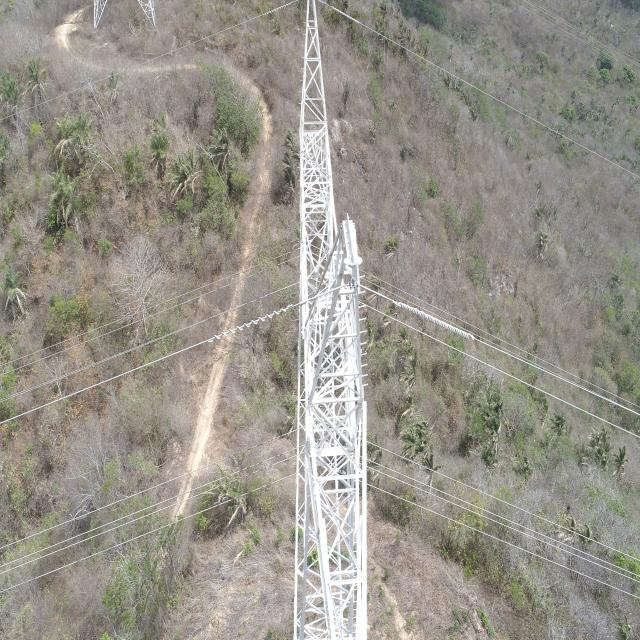杆塔: (294, 0, 369, 640)
正常电缆: (338, 5, 640, 187), (2, 297, 296, 432), (0, 467, 294, 601), (1, 422, 296, 554), (370, 303, 640, 444), (2, 277, 296, 405), (2, 253, 297, 380), (370, 285, 637, 419), (368, 435, 640, 566), (369, 478, 640, 604), (49, 0, 292, 114)
